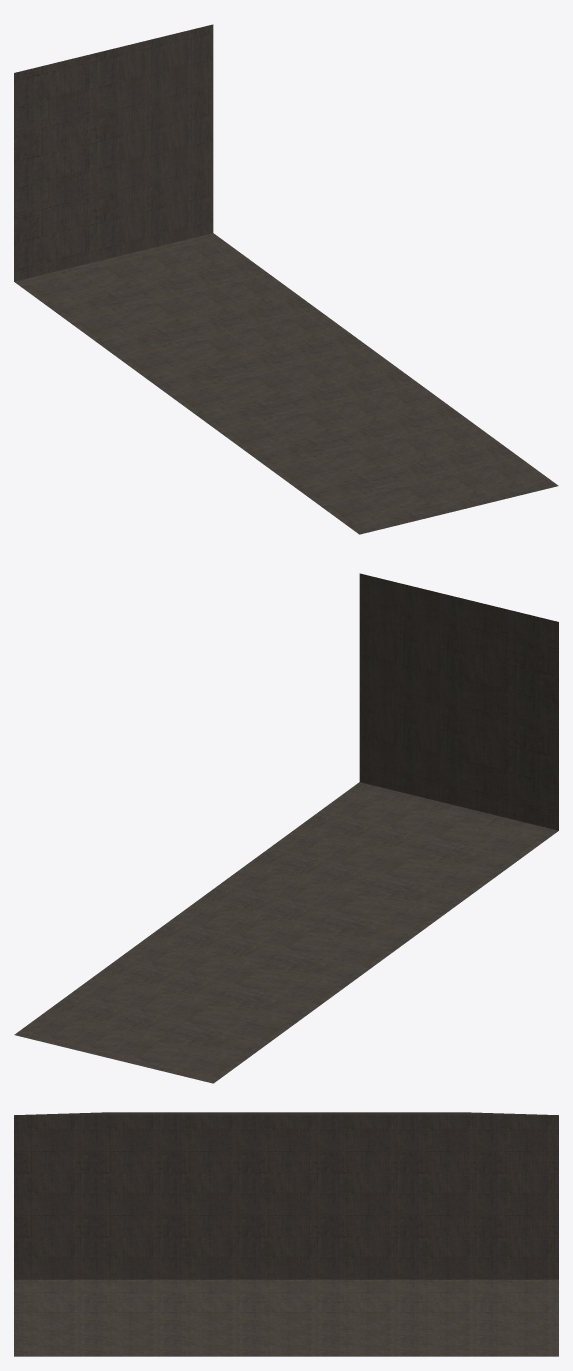
Rendered from WarehouseEnd.gltf.
3 renders of one model, top to bottom at view 1: azimuth 30°, elevation 25°; view 2: azimuth 150°, elevation 25°; view 3: azimuth 270°, elevation 25°, orthographic. The views are drawn at different scales.
Visible parts, largest first — view 1: WarehouseEnd; view 2: WarehouseEnd; view 3: WarehouseEnd.
Boxes of the visible parts, <box> form: WarehouseEnd: <box>14,24,558,534</box>; WarehouseEnd: <box>14,573,558,1083</box>; WarehouseEnd: <box>14,1112,558,1356</box>.
Bounding box in the file's own units: 3.98 × 4.98 × 11.94.
Materials: 1 (1 with a texture image).
